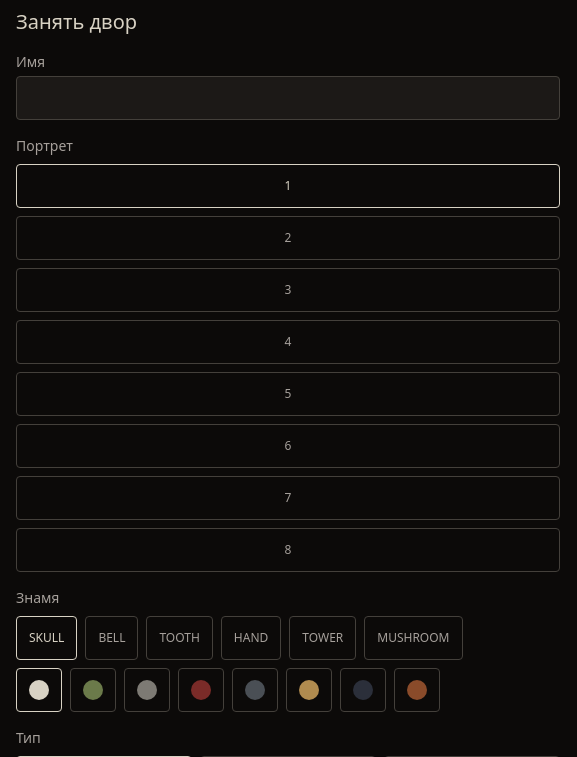
создание лорда › восемь голов, шесть знаков, восемь цветов, три типа
Expected: the heading "Портрет" is shown, left=16, top=136, right=73, bottom=155
Expected: the heading "Знамя" is shown, left=16, top=588, right=59, bottom=607
Type "Костяной Лорд" into the field at (288, 98), box left=16, top=76, right=560, bottom=120
(page scrolled)
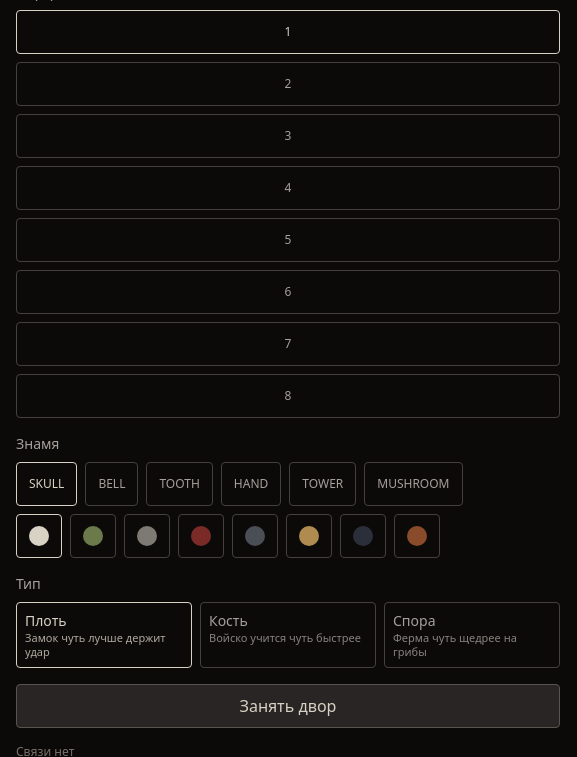
Expected: the button "Занять двор" is enabled, left=16, top=684, right=560, bottom=728
